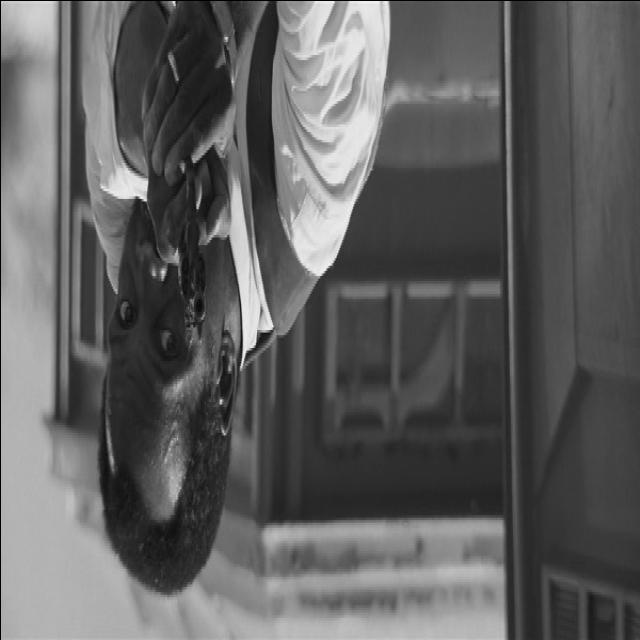weapons: (162, 125, 226, 381)
